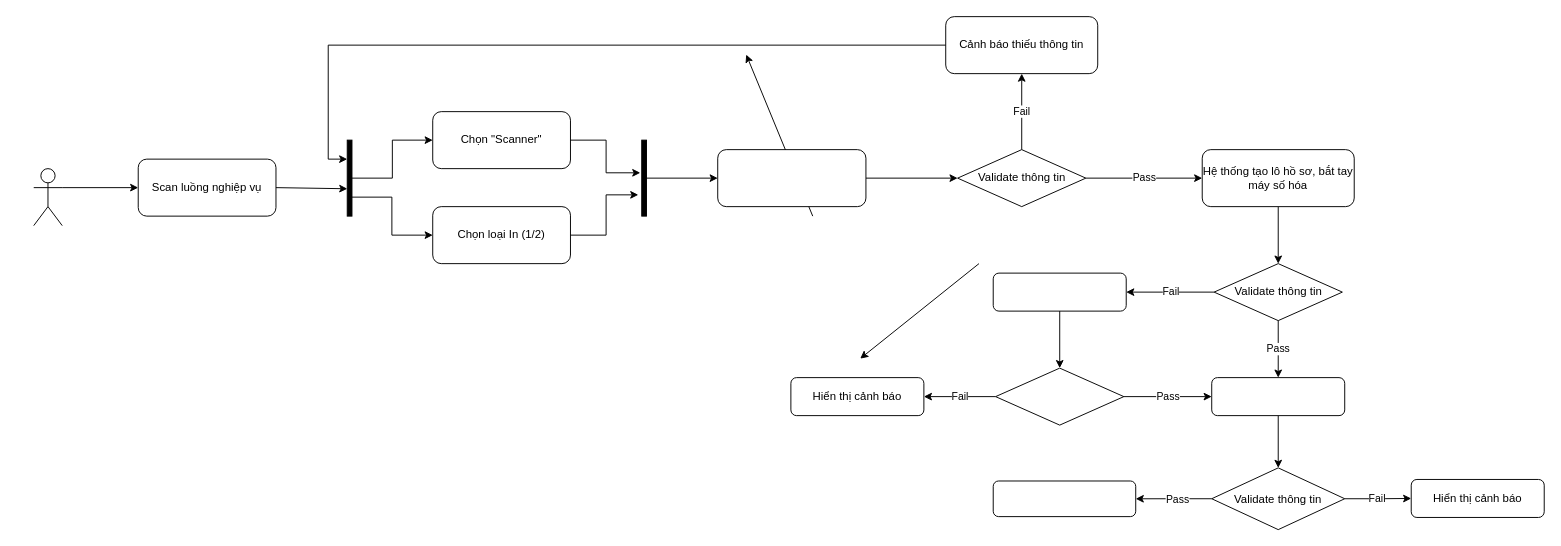
The diagram is 1561 pixels wide and 546 high, and some of its shapes have lost their labels. The shapes that lost their labels are listed below. From the top down, each one's box as (x1, y1, x2, y2) in pixels, then its label:
(33, 168, 62, 226): Người dùng
(717, 149, 866, 207): Nhấn chọn Scan
(992, 272, 1126, 311): Hệ thống retry 3 lần
(1211, 377, 1345, 416): Thực hiện scan
(992, 480, 1136, 517): Hiển thị hình ảnh
